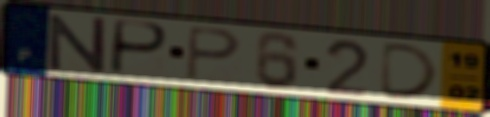2: (322, 37, 376, 98)
6: (253, 30, 300, 92)
D: (376, 41, 443, 101)
N: (46, 13, 108, 75)
P: (106, 17, 172, 78), (184, 24, 244, 83)
